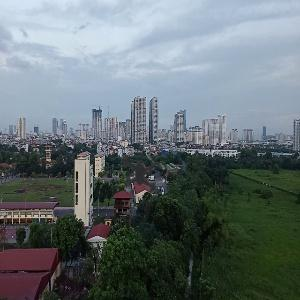drone: (78, 106, 209, 237)
